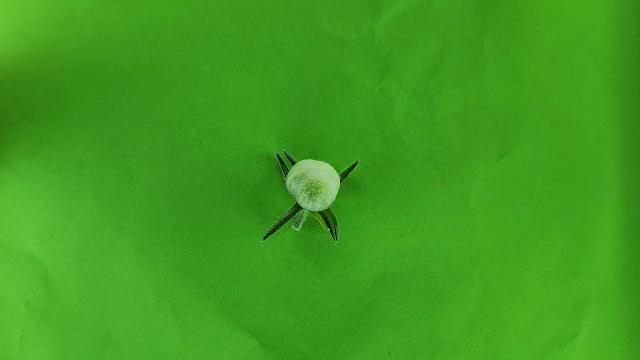Fruit Maturation: (287, 161, 337, 208)
